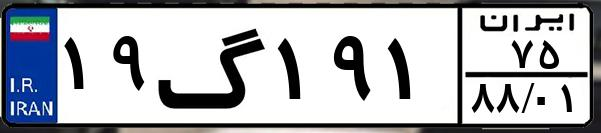0: (535, 70, 560, 125)
1: (270, 28, 330, 110), (385, 28, 445, 110), (57, 26, 110, 100), (560, 70, 590, 125)
5: (537, 27, 568, 80)
7: (508, 27, 537, 80)
8: (470, 70, 495, 125), (495, 70, 520, 125)
9: (330, 28, 385, 110), (110, 28, 156, 98)
گ: (156, 12, 270, 120)
